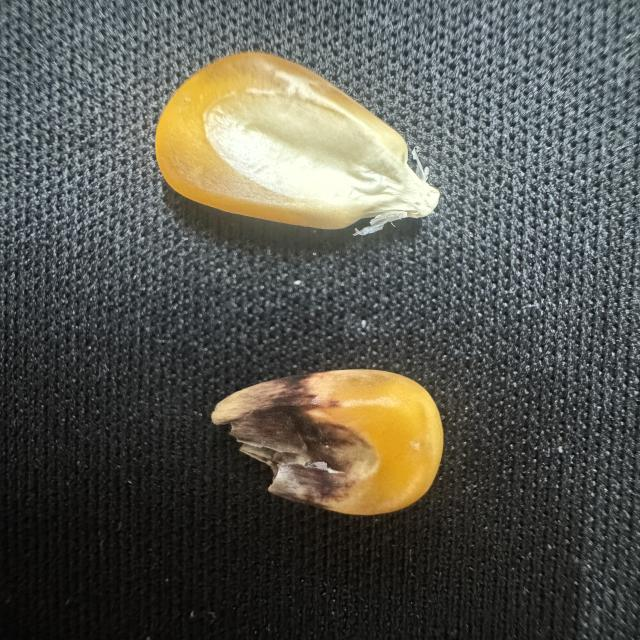Bad-Seed: (199, 358, 450, 524)
Good-Seed: (140, 46, 448, 247)
